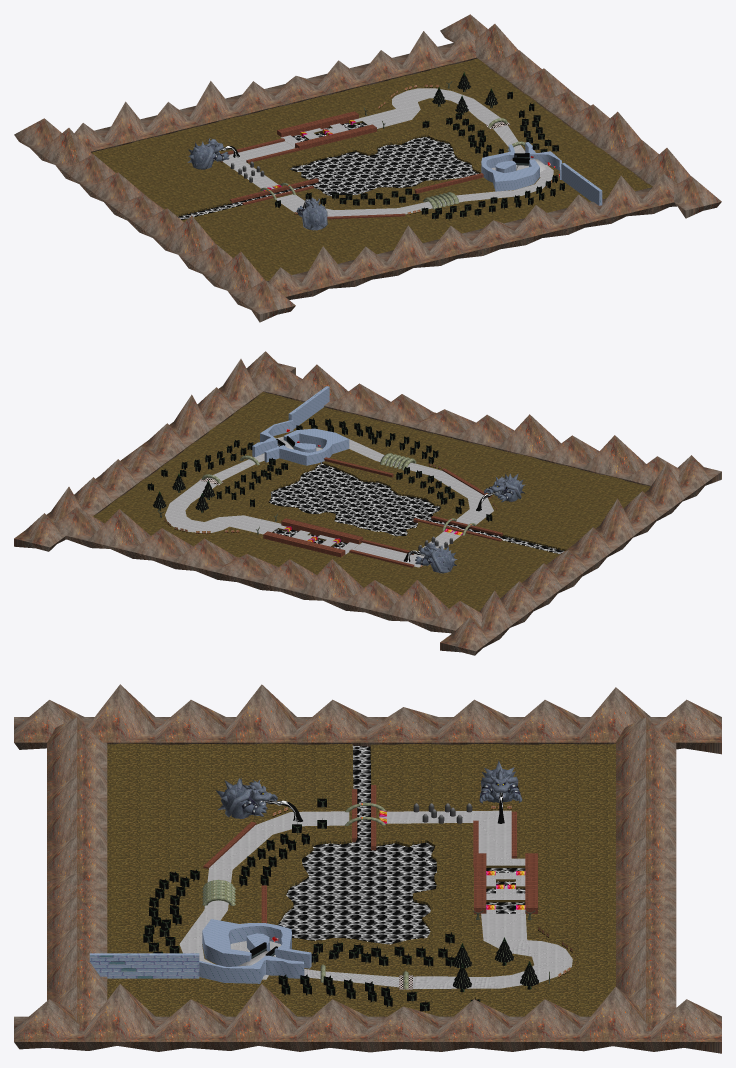
3 views of the same model, one above another, from view 1: azimuth 30°, elevation 25°; view 2: azimuth 150°, elevation 25°; view 3: azimuth 270°, elevation 25° (orthographic). The views are drawn at different scales.
Visible parts, largest first — view 1: muntainwall, offroad.004, lava.002, road.022, arbolestrans.000, wallx01, wall.009, koopa64wall, arbolestrans, columwall; view 2: muntainwall, offroad.004, lava.002, road.022, wall.009, arbolestrans.000, wallx01, koopa64wall, arbolestrans, columwall; view 3: muntainwall, offroad.004, lava.002, road.022, wall.009, arbolestrans.000, koopa64wall, wallx01, arbolestrans, columwall, offroad_save.
Boxes of the visible parts, x1,y1,x2,y2 form: muntainwall: [14, 14, 721, 322]; offroad.004: [91, 58, 652, 280]; lava.002: [178, 122, 478, 219]; road.022: [222, 88, 553, 216]; arbolestrans.000: [275, 91, 564, 220]; wallx01: [221, 111, 483, 219]; wall.009: [481, 142, 602, 205]; koopa64wall: [187, 138, 327, 230]; arbolestrans: [432, 72, 497, 114]; columwall: [423, 118, 525, 209]; muntainwall: [14, 351, 721, 655]; offroad.004: [93, 392, 650, 611]; lava.002: [268, 464, 564, 554]; road.022: [165, 436, 493, 567]; wall.009: [252, 386, 349, 465]; arbolestrans.000: [147, 418, 492, 521]; wallx01: [263, 457, 502, 567]; koopa64wall: [415, 473, 525, 573]; arbolestrans: [153, 473, 214, 512]; columwall: [201, 453, 416, 483]; muntainwall: [14, 684, 721, 1053]; offroad.004: [107, 743, 615, 1016]; lava.002: [278, 745, 525, 944]; road.022: [179, 810, 572, 988]; wall.009: [89, 919, 311, 983]; arbolestrans.000: [143, 797, 480, 1011]; koopa64wall: [216, 760, 522, 818]; wallx01: [203, 811, 537, 923]; arbolestrans: [452, 937, 538, 992]; columwall: [202, 879, 408, 989]; offroad_save: [352, 785, 376, 846].
Size of the model in its own units: 166161 by 16997 by 153008.
Materials: 23 (23 with a texture image).
